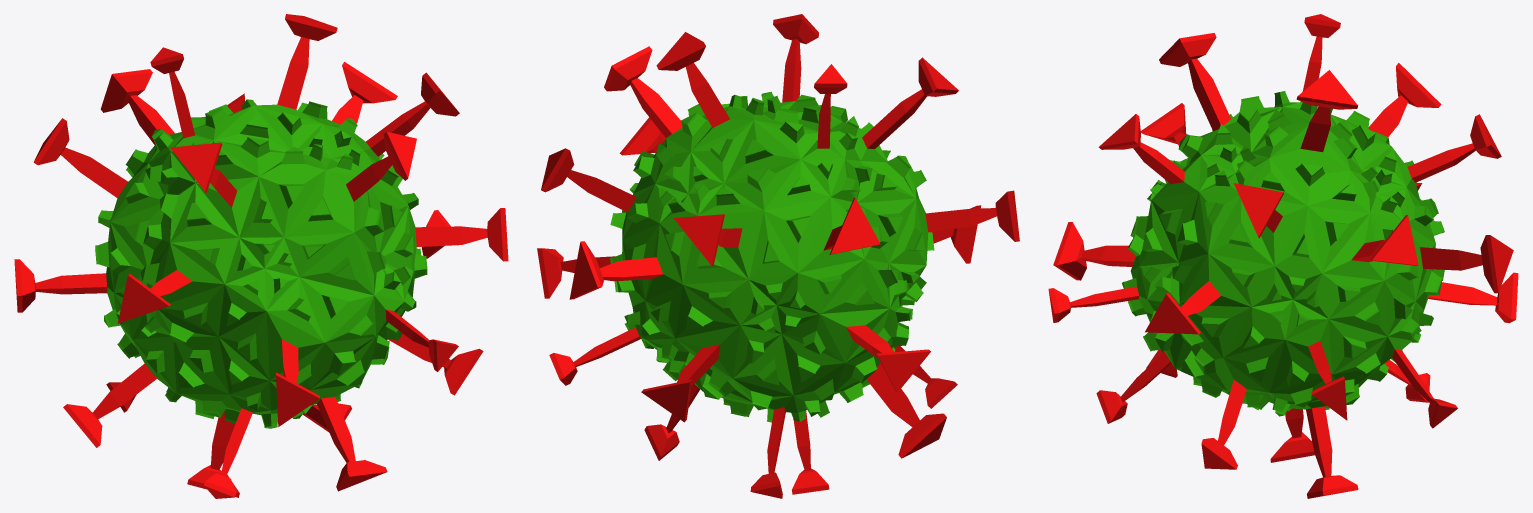
File: Virsu 1.fbx
3 views of the same model, side by side, from view 1: azimuth 30°, elevation 25°; view 2: azimuth 150°, elevation 25°; view 3: azimuth 270°, elevation 25° (orthographic). The views are drawn at different scales.
Visible parts, largest first — view 1: Envelope, Spike Glycoprotein (S); view 2: Envelope, Spike Glycoprotein (S); view 3: Envelope, Spike Glycoprotein (S).
Part boxes in pixels (x1,y1,x2,y2): Envelope: [95, 99, 427, 428]; Spike Glycoprotein (S): [14, 14, 508, 498]; Envelope: [610, 91, 934, 422]; Spike Glycoprotein (S): [537, 14, 1019, 498]; Envelope: [1122, 91, 1444, 416]; Spike Glycoprotein (S): [1048, 14, 1518, 498].
Size of the model in its own units: 26.14 by 26.59 by 26.84.
